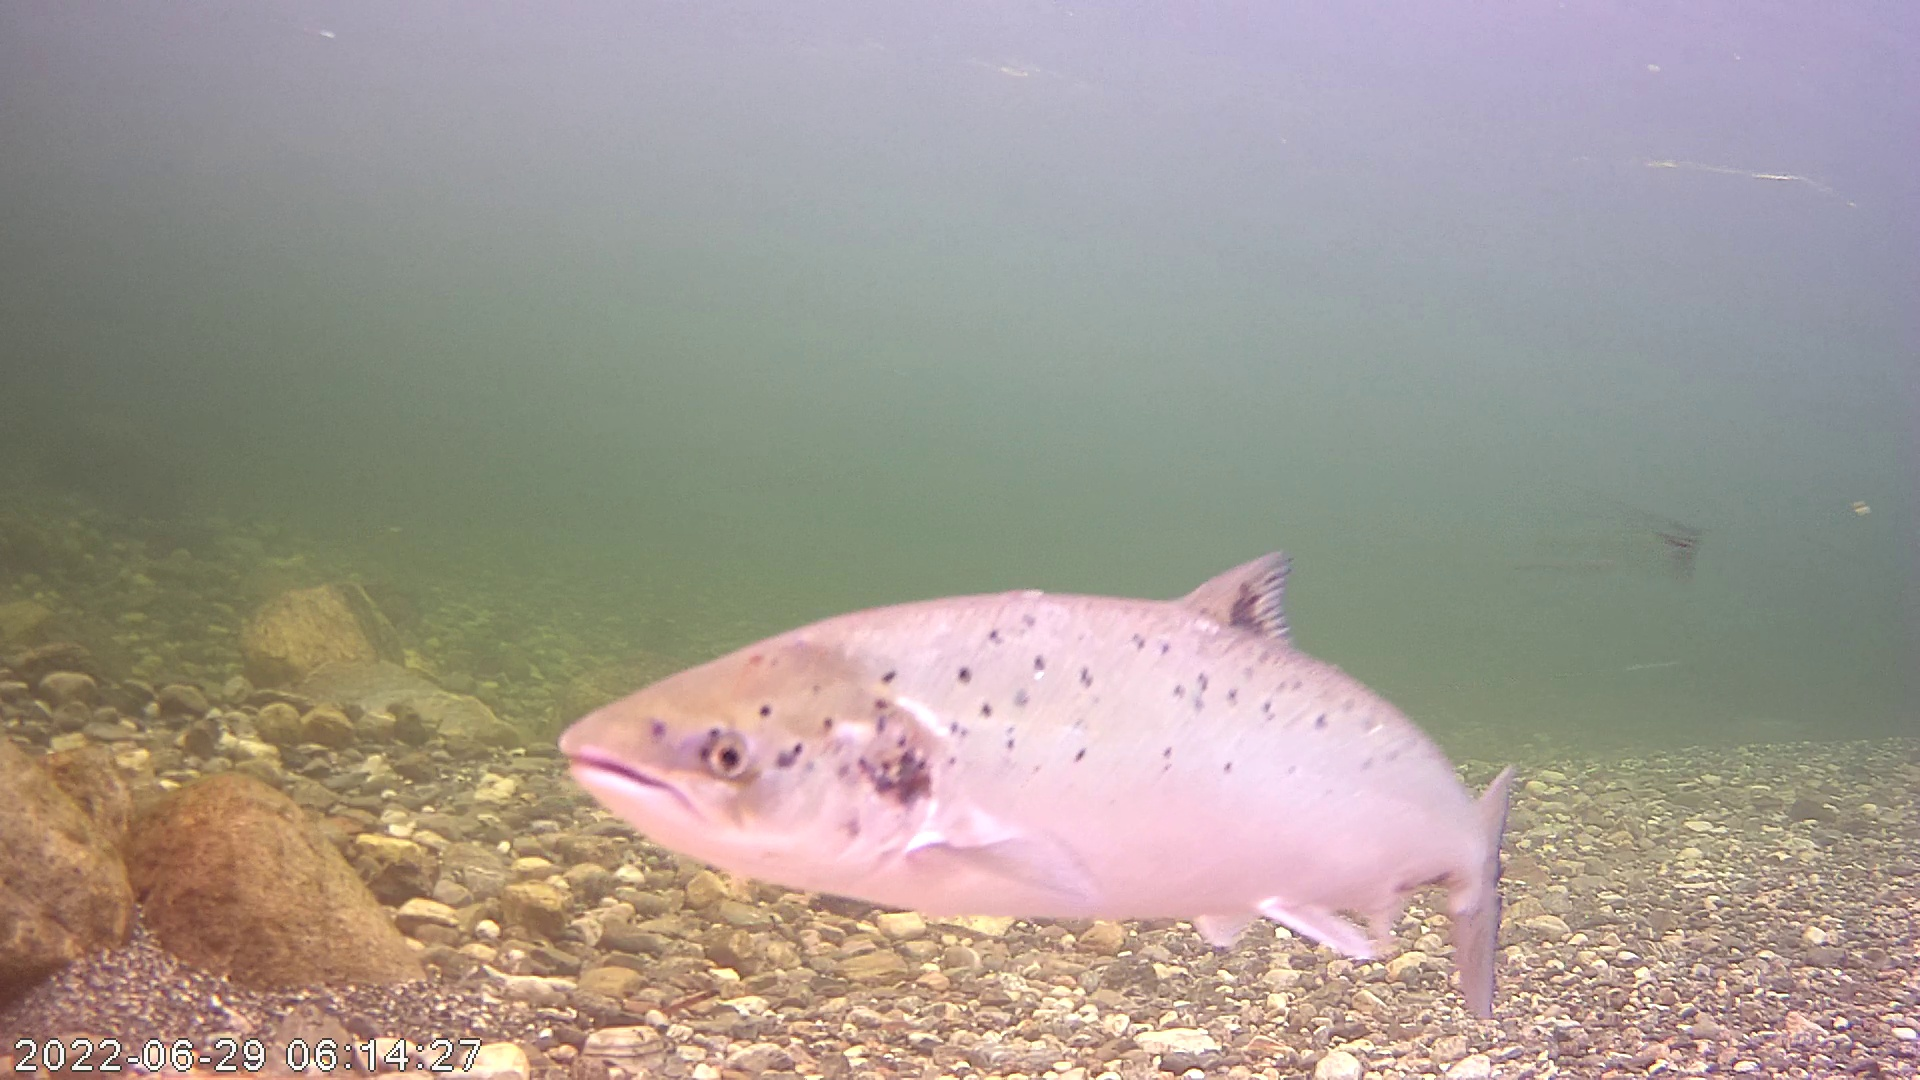salmon: (551, 433, 1491, 936)
